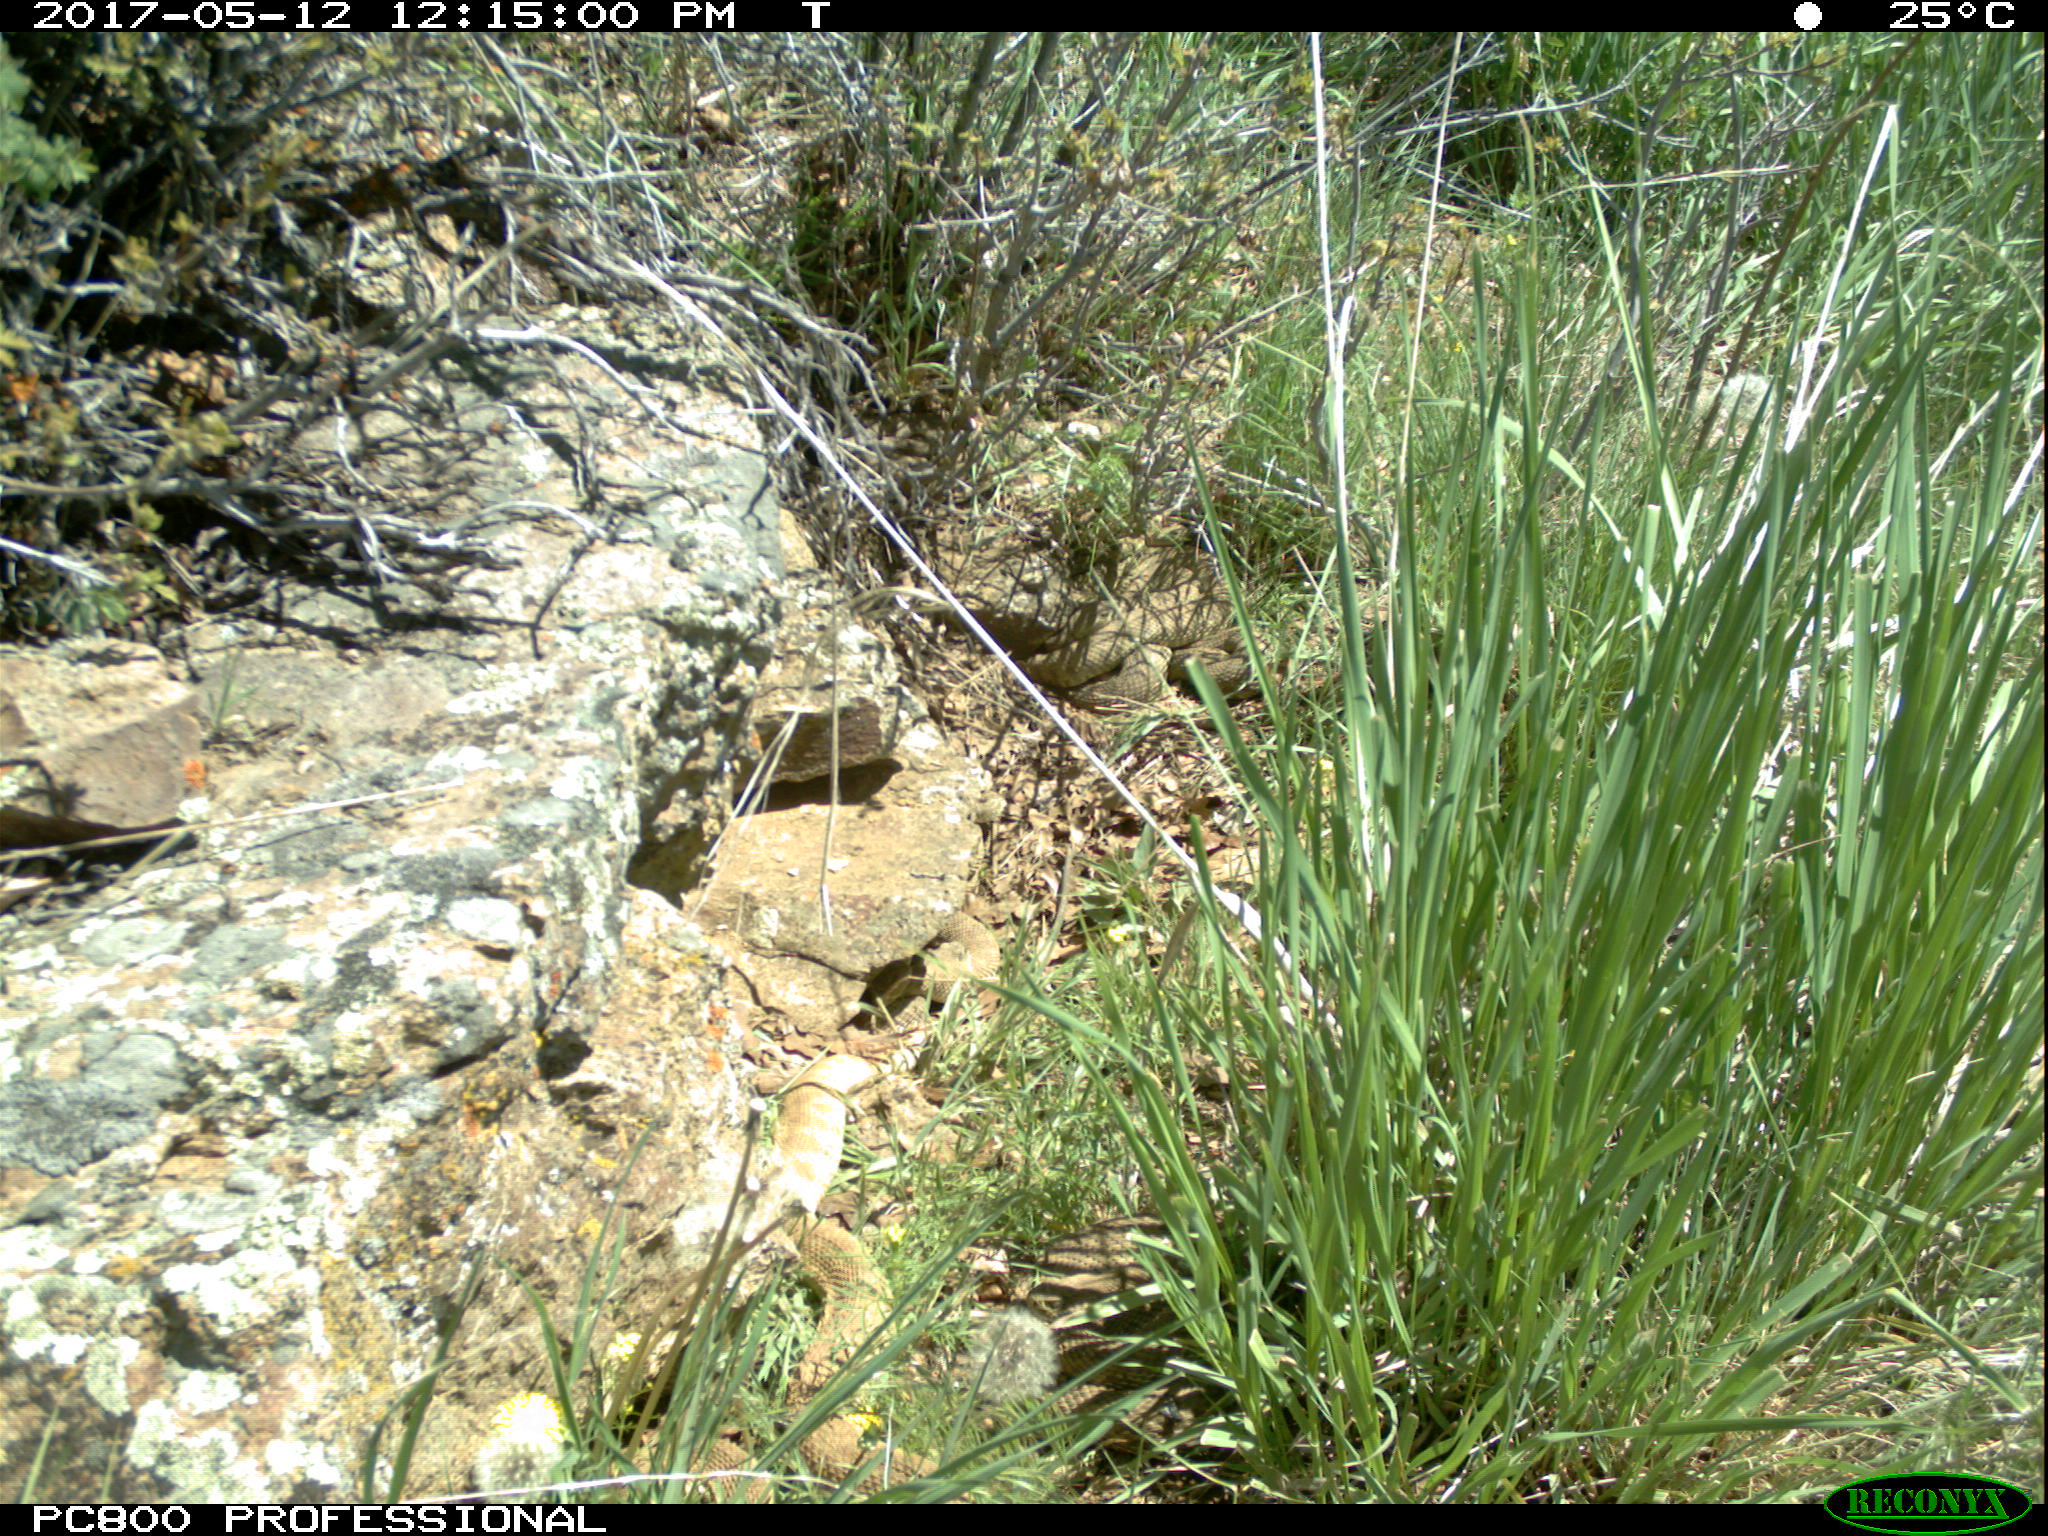snake: (760, 1054, 924, 1489), (1118, 526, 1298, 694), (1021, 637, 1185, 715), (651, 1439, 771, 1501), (932, 912, 1001, 991)
